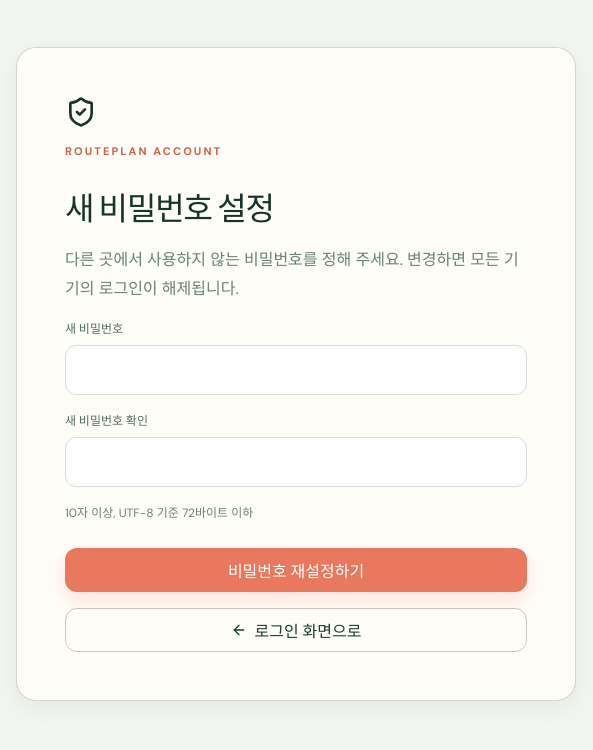
Test case: account security screens › rejects mismatched passwords and clears the account session after reset
Type "new-password-2026" into the password field labelled "새 비밀번호" at (296,370), box [65,345,527,395]
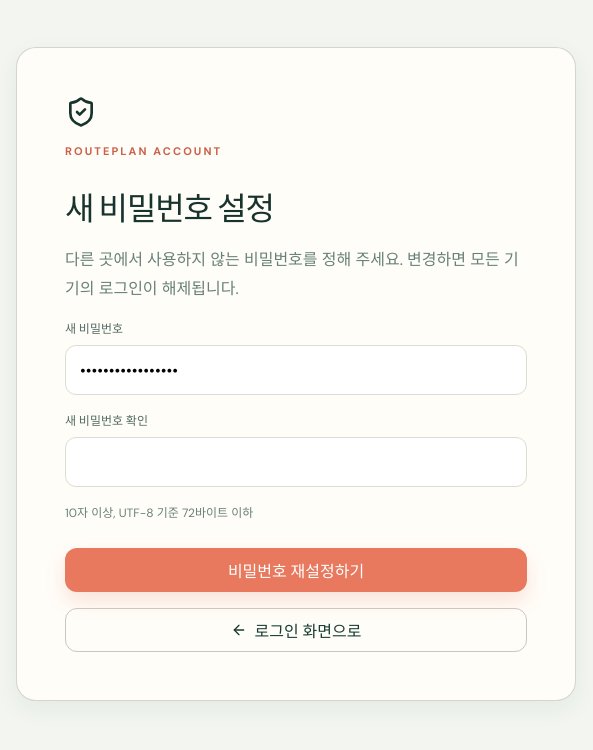
Type "mismatch-2026" into the password field labelled "새 비밀번호 확인" at (296,462), box [65,437,527,487]
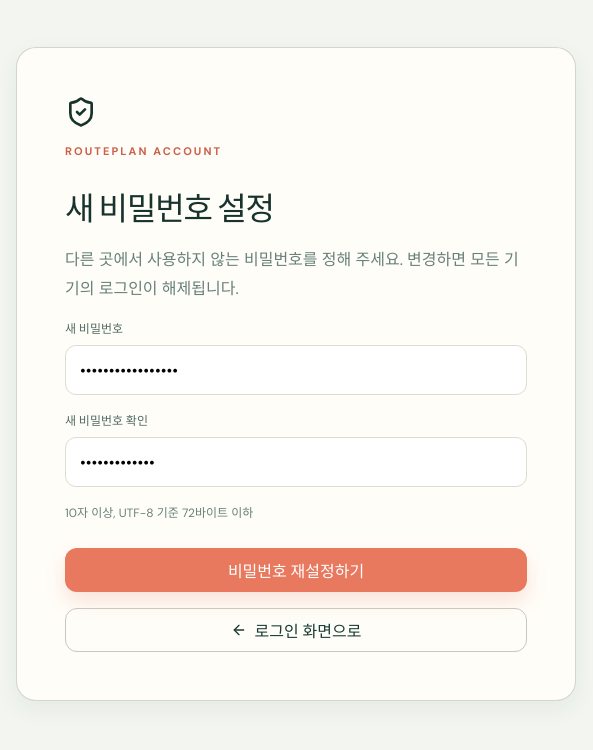
Click the button "비밀번호 재설정하기" at (296,570), box [65,548,527,592]
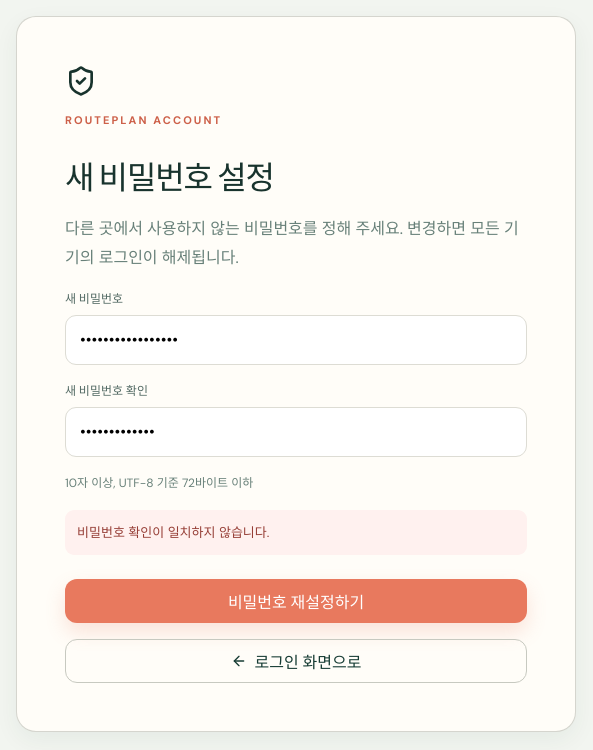
Check: the message shows "일치하지", box [77,524,269,541]
Type "new-password-2026" into the password field labelled "새 비밀번호 확인" at (296,432), box [65,407,527,457]
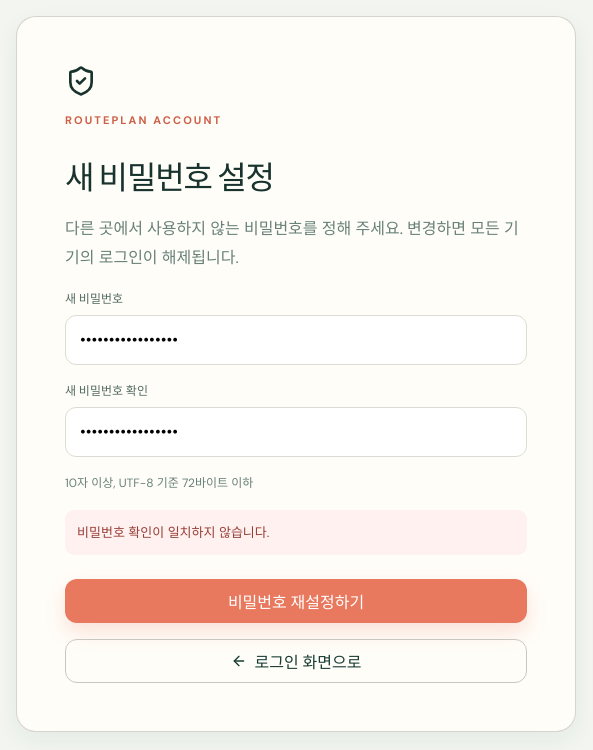
Click the button "비밀번호 재설정하기" at (296,601), box [65,579,527,623]
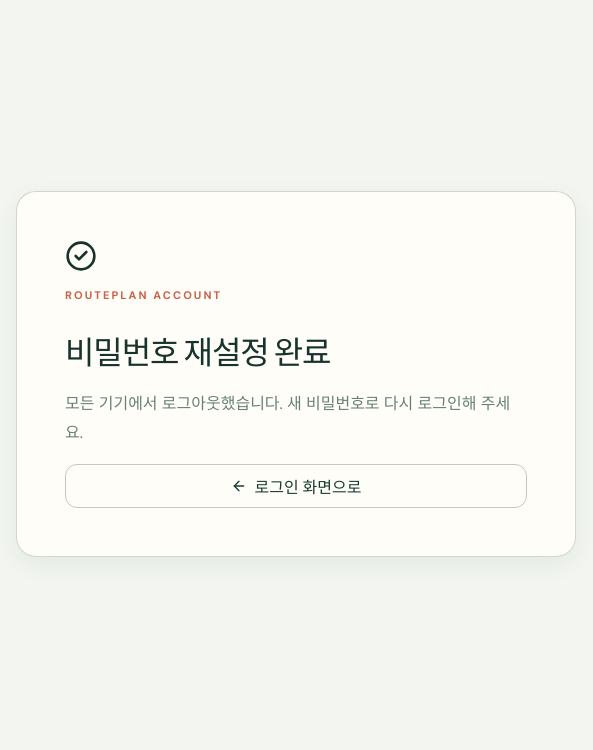
Check: the heading "비밀번호 재설정 완료" is shown, box [65,330,330,374]
